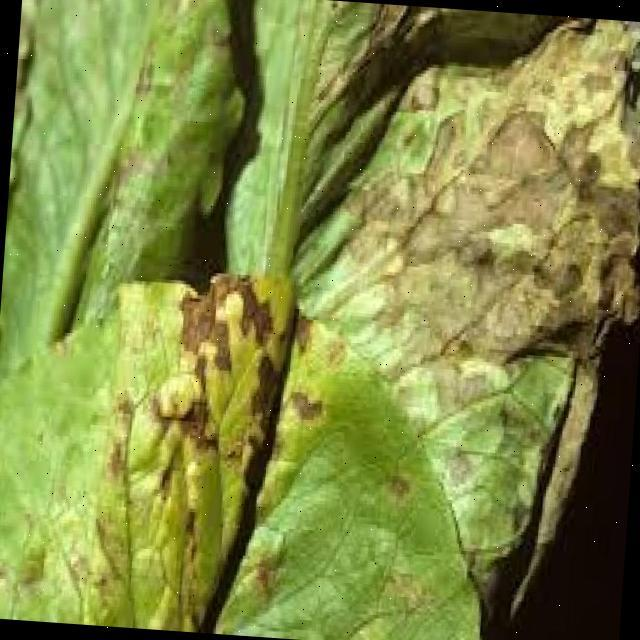Septoria_Blight_on_lettuce: (18, 263, 445, 638), (359, 69, 640, 296)
